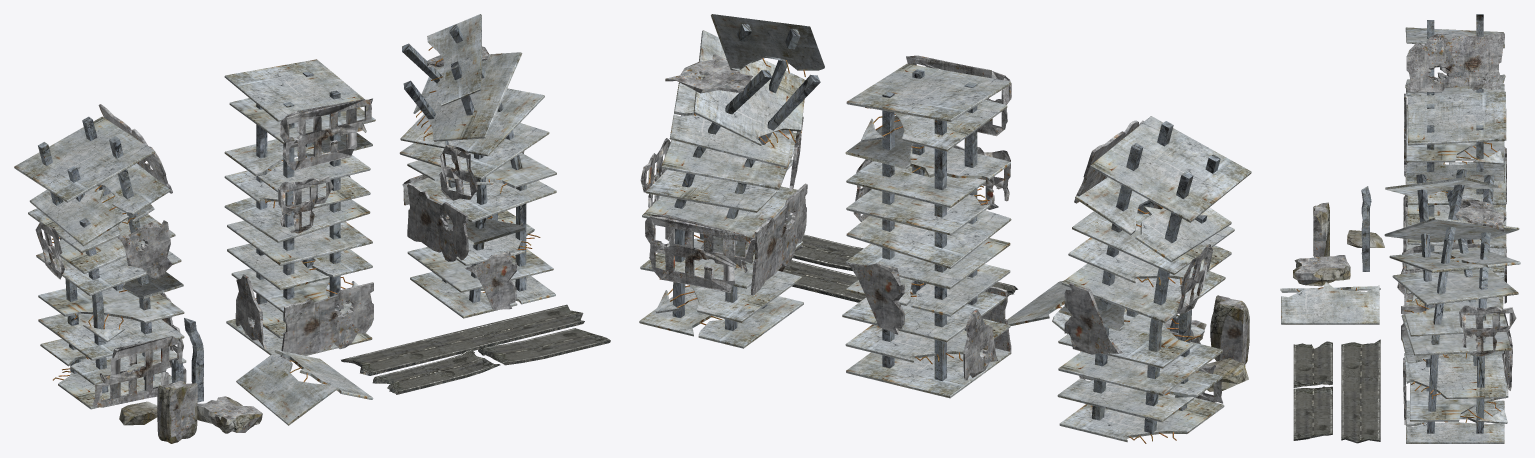
The model's file is s57-destroyed-city-reuse.glb.
3 views of the same model, side by side, from view 1: azimuth 30°, elevation 25°; view 2: azimuth 150°, elevation 25°; view 3: azimuth 270°, elevation 25° (orthographic). The views are drawn at different scales.
Visible parts, largest first — view 1: Route, Étage_1_1, Débri_1, Face_pleine_1_3, Étage_1_2_2, Étage_4_3, Étage_2, Face_1_3, Colonne_2, Colonne_3, Face_1_2, Étage_5 (+38 smaller); view 2: Étage_1_1, Étage_1_2_2, Étage_2, Face_1, Étage_4_5, Colonne_2, Étage_4_3, Colonne_1, Étage_1_1_2, Étage_5, Colonne_3, Étage_1_4 (+37 smaller); view 3: Route, Face_pleine_1_2, Étage_1_2_2, Colonne_3, Débri_1, Étage_2_2, Étage_1, Étage_4_2, Étage_3, Étage_3_2, Étage_4, Étage_2 (+23 smaller).
Part boxes in pixels (box(x1,y1,x2,y2)): Route: box(341, 304, 610, 394); Étage_1_1: box(14, 116, 155, 202); Débri_1: box(236, 350, 373, 425); Face_pleine_1_3: box(280, 282, 373, 360); Étage_1_2_2: box(224, 59, 364, 121); Étage_4_3: box(29, 163, 170, 246); Étage_2: box(413, 52, 522, 141); Face_1_3: box(280, 98, 372, 170); Colonne_2: box(38, 116, 154, 393); Colonne_3: box(402, 24, 526, 302); Face_1_2: box(92, 336, 186, 407); Étage_5: box(427, 14, 481, 106); Étage_1_1: box(1090, 116, 1251, 222); Étage_1_2_2: box(846, 63, 1010, 121); Étage_2: box(693, 30, 805, 146); Face_1: box(645, 214, 755, 292); Étage_4_5: box(846, 146, 1010, 207); Colonne_2: box(1092, 121, 1220, 434); Étage_4_3: box(1075, 177, 1231, 262); Colonne_1: box(882, 69, 977, 381); Étage_1_1_2: box(846, 210, 1011, 268); Étage_5: box(711, 14, 824, 76); Colonne_3: box(672, 24, 820, 330); Étage_1_4: box(1058, 338, 1222, 395); Route: box(1293, 339, 1380, 443); Face_pleine_1_2: box(1406, 33, 1504, 92); Étage_1_2_2: box(1407, 91, 1506, 145); Colonne_3: box(1416, 169, 1494, 433); Débri_1: box(1280, 282, 1380, 324); Étage_2_2: box(1404, 353, 1506, 398); Étage_1: box(1392, 268, 1518, 305); Étage_4_2: box(1406, 400, 1504, 443); Étage_3: box(1404, 295, 1507, 336); Étage_3_2: box(1410, 378, 1508, 423); Étage_4: box(1389, 247, 1520, 272); Étage_2: box(1384, 217, 1519, 243).
Size of the model in its own units: 10.65 by 5.65 by 4.88.
6 materials, 6 textured.
